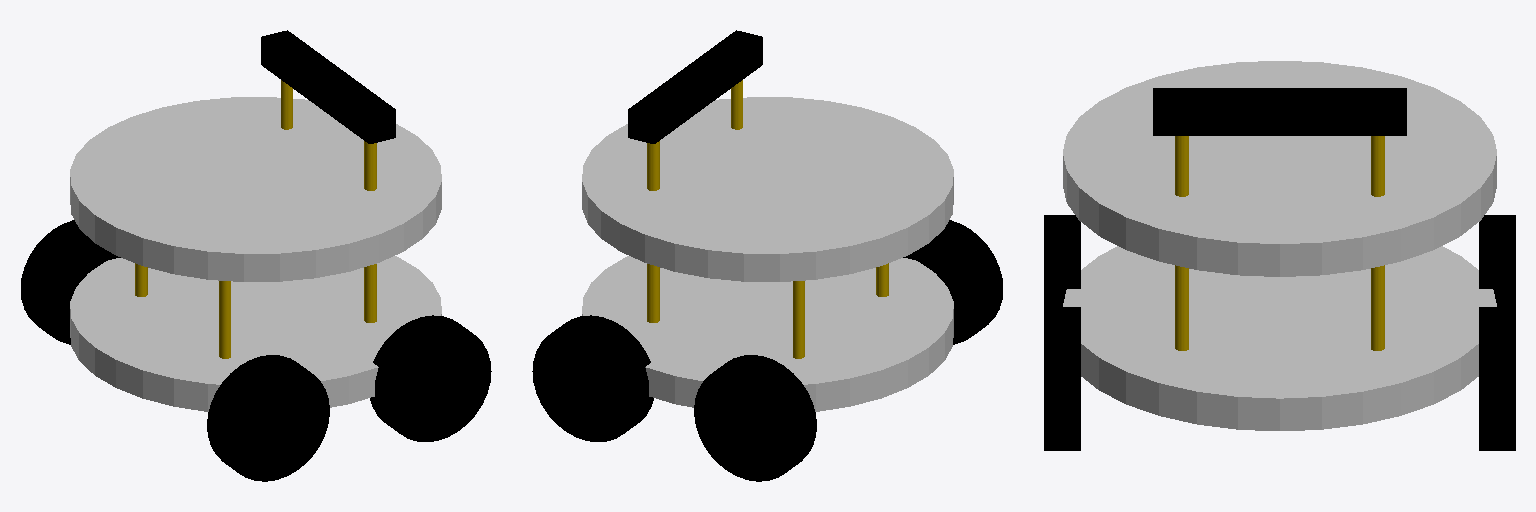
robot.urdf — ultron:
<?xml version='1.0'?>

<robot name="ultron">
  <gazebo reference="chassis_top">
      <material>Gazebo/Blue</material>
  </gazebo>

  <!-- < Materials > -->

  <material name="white">
    <color rgba="0.8 0.8 0.8 1"/>
  </material>

  <material name="gold">
    <color rgba="0.75 0.63 0 1"/>
  </material>

  <material name="black">
    <color rgba="0 0 0 1"/>
  </material>

  <!-- < Chassis Top Parent Link > -->

  <link name='chassis_top'>
    <pose>0 0 0.1 0 0 0</pose>

    <inertial>
      <mass value="1.0"/>
      <origin xyz="0.0 0 0" rpy=" 0 0 0"/>
      <inertia
          ixx="0" ixy="0" ixz="0"
          iyy="0" iyz="0"
          izz="0"
      />
    </inertial>

    <collision name='chassis_collision'>
      <origin xyz="0 0 0.125" rpy=" 0 0 0"/> 
      <geometry>
        <cylinder length="0.025" radius="0.15"/>
      </geometry>
    </collision>

    <visual name='chassis_visual'>
      <origin xyz="0 0 0.125" rpy=" 0 0 0"/>
      <geometry>
       <cylinder length="0.025" radius="0.15"/>
      </geometry>
      <material name="white"/>
    </visual>

  </link>

  <!-- < Chassis Bottom Component > -->

  <link name='chassis_bottom'>
    <pose>0 0 0.1 0 0 0</pose>

    <inertial>
      <mass value="1.0"/>
      <origin xyz="0.0 0 0" rpy=" 0 0 0"/>
      <inertia
          ixx="0" ixy="0" ixz="0"
          iyy="0" iyz="0"
          izz="0"
      />
    </inertial>

    <collision name='chassis_collision'>
      <origin xyz="0 0 0.0" rpy=" 0 0 0"/> 
      <geometry>
        <cylinder length="0.025" radius="0.15"/>
      </geometry>
    </collision>

    <visual name='chassis_visual'>
      <origin xyz="0 0 0.0" rpy=" 0 0 0"/>
      <geometry>
       <cylinder length="0.025" radius="0.15"/>
      </geometry>
      <material name="white"/>
    </visual>

  </link>
  
  <joint name="joint_chassis_top_bottom" type="fixed">
    <origin xyz="0.0 0.0 0.0075" rpy="0.0 0.0 0.0"/>
    <parent link="chassis_top"/>
    <child link="chassis_bottom"/>
  </joint>

  <!-- < Wheels Back Left Component > -->

  <link name="wheels_back_left">
    <pose>0 0 0.1 0 0 0</pose>

    <inertial>
      <mass value="0.5"/>
      <origin xyz="0.0 0 0" rpy=" 0 0 0"/>
      <inertia
          ixx="0" ixy="0" ixz="0"
          iyy="0" iyz="0"
          izz="0"
      />
    </inertial>

    <collision name='left_wheel_collision'>
      <origin xyz="0 0 0" rpy="0 1.57075 1.57075"/>
      <geometry>
        <cylinder length="0.025" radius="0.05"/>
      </geometry>
    </collision>

    <visual name='left_wheel_visual'>
      <origin xyz="0 0 0" rpy="0 1.57075 1.57075"/>
      <geometry>
        <cylinder length="0.025" radius="0.05"/>
      </geometry>
      <material name="black"/>
    </visual>
  </link>

  <joint name="joint_chassis_wheels_back_left" type="continuous">
    <origin xyz="-0.075 0.15 0" rpy=" 0 0 0"/>
    <parent link="chassis_top"/>
    <child link="wheels_back_left"/>
    <axis xyz="0.0 1.0 0.0"/>
    <limit lower="0.0" upper="0.0" effort="50.0" velocity="0.5"/>
  </joint>

  <!-- < Wheels Front Right Component > -->

  <link name="wheels_back_right">
    <pose>0 0 0.1 0 0 0</pose>

    <inertial>
      <mass value="0.5"/>
      <origin xyz="0 0 0" rpy=" 0 0 0"/>
      <inertia
          ixx="0" ixy="0" ixz="0"
          iyy="0" iyz="0"
          izz="0"
      />
    </inertial>

    <collision name='right_wheel_collision'>
      <origin xyz="0 0 0" rpy="0 1.57075 1.57075"/>
      <geometry>
        <cylinder length="0.025" radius="0.05"/>
      </geometry>
    </collision>

    <visual name='right_wheel_visual'>
      <origin xyz="0 0 0" rpy="0 1.57075 1.57075"/>
      <geometry>
        <cylinder length="0.025" radius="0.05"/>
      </geometry>
      <material name="black"/>
    </visual>
  </link>

  <joint name="joint_chassis_wheels_back_right" type="continuous">
    <origin xyz="-0.075 -0.15 0" rpy=" 0 0 0"/>
    <parent link="chassis_top"/>
    <child link="wheels_back_right"/>
    <axis xyz="0.0 1.0 0.0"/>
    <limit lower="0.0" upper="0.0" effort="50.0" velocity="0.5"/>
  </joint>

  <!-- < Wheels Front Left Component > -->

  <link name="wheels_front_left">
    <pose>0 0 0.1 0 0 0</pose>

    <inertial>
      <mass value="0.5"/>
      <origin xyz="0.0 0 0" rpy=" 0 0 0"/>
      <inertia
          ixx="0" ixy="0" ixz="0"
          iyy="0" iyz="0"
          izz="0"
      />
    </inertial>

    <collision name='left_wheel_collision'>
      <origin xyz="0 0 0" rpy="0 1.57075 1.57075"/>
      <geometry>
        <cylinder length="0.025" radius="0.05"/>
      </geometry>
    </collision>

    <visual name='left_wheel_visual'>
      <origin xyz="0 0 0" rpy="0 1.57075 1.57075"/>
      <geometry>
        <cylinder length="0.025" radius="0.05"/>
      </geometry>
      <material name="black"/>
    </visual>
  </link>

  <joint name="joint_chassis_wheels_front_left" type="continuous">
    <origin xyz="0.075 0.15 0" rpy=" 0 0 0"/>
    <parent link="chassis_top"/>
    <child link="wheels_front_left"/>
    <axis xyz="0.0 1.0 0.0"/>
    <limit lower="0.0" upper="0.0" effort="50.0" velocity="0.5"/>
  </joint>
    
  <!-- < Wheels Front Right Component > -->

  <link name="wheels_front_right">
    <pose>0 0 0.1 0 0 0</pose>

    <inertial>
      <mass value="0.5"/>
      <origin xyz="0.0 0 0" rpy=" 0 0 0"/>
      <inertia
          ixx="0" ixy="0" ixz="0"
          iyy="0" iyz="0"
          izz="0"
      />
    </inertial>

    <collision name='right_wheel_collision'>
      <origin xyz="0 0 0" rpy="0 1.57075 1.57075"/>
      <geometry>
        <cylinder length="0.025" radius="0.05"/>
      </geometry>
    </collision>

    <visual name='right_wheel_visual'>
      <origin xyz="0 0 0" rpy="0 1.57075 1.57075"/>
      <geometry>
        <cylinder length="0.025" radius="0.05"/>
      </geometry>
      <material name="black"/>
    </visual>
  </link>

  <joint name="joint_chassis_wheels_front_right" type="continuous">
    <origin xyz="0.075 -0.15 0" rpy=" 0 0 0"/>
    <parent link="chassis_top"/>
    <child link="wheels_front_right"/>
    <axis xyz="0.0 1.0 0.0"/>
    <limit lower="0.0" upper="0.0" effort="50.0" velocity="0.5"/>
  </joint>

  <!-- < Bottom Connector Component > -->

  <link name="connector_bottom_back_right">
  <pose>0 0 0.1 0 0 0</pose>

    <inertial>
      <mass value="1.0"/>
      <origin xyz="0.0 0 0" rpy=" 0 0 0"/>
      <inertia
          ixx="0" ixy="0" ixz="0"
          iyy="0" iyz="0"
          izz="0"
      />
    </inertial>

    <collision name='connector_0_collision'>
      <origin xyz="0 0 0" rpy=" 0 0 0"/>
      <geometry>
        <cylinder length="0.1" radius="0.005"/>
      </geometry>
    </collision>

    <visual name='connector_0_visual'>
      <origin xyz="0 0 0" rpy=" 0 0 0"/>
      <geometry>
        <cylinder length="0.1" radius="0.005"/>
      </geometry>
      <material name="gold"/>
    </visual>
     </link>

  <joint name="joint_chassis_top_bbr_connector" type="fixed">
    <origin xyz="0.0675 0.0675 0.065" rpy="0.0 0.0 0.0"/>
    <parent link="chassis_top"/>
    <child link="connector_bottom_back_right"/>
  </joint> 

  <!-- < Bottom Connector Component > -->

 <link name="connector_bottom_back_left">
  <pose>0 0 0.1 0 0 0</pose>

    <inertial>
      <mass value="1.0"/>
      <origin xyz="0.0 0 0" rpy=" 0 0 0"/>
      <inertia
          ixx="0" ixy="0" ixz="0"
          iyy="0" iyz="0"
          izz="0"
      />
    </inertial>

    <collision name='connector_1_collision'>
      <origin xyz="0 0 0" rpy=" 0 0 0"/>
      <geometry>
        <cylinder length="0.1" radius="0.005"/>
      </geometry>
    </collision>

    <visual name='connector_1_visual'>
      <origin xyz="0 0 0" rpy=" 0 0 0"/>
      <geometry>
        <cylinder length="0.1" radius="0.005"/>
      </geometry>
      <material name="gold"/>
    </visual>
  </link>

  <joint name="joint_chassis_top_bbl_connector" type="fixed">
    <origin xyz="-0.0675 0.0675 0.065" rpy="0.0 0.0 0.0"/>
    <parent link="chassis_top"/>
    <child link="connector_bottom_back_left"/>
   </joint>

<!-- < Bottom Front Left Connector Component > -->

 <link name="connector_bottom_front_right">
  <pose>0 0 0.1 0 0 0</pose>

    <inertial>
      <mass value="1.0"/>
      <origin xyz="0.0 0 0" rpy=" 0 0 0"/>
      <inertia
          ixx="0" ixy="0" ixz="0"
          iyy="0" iyz="0"
          izz="0"
      />
    </inertial>

    <collision name='connector_2_collision'>
      <origin xyz="0 0 0" rpy=" 0 0 0"/>
      <geometry>
        <cylinder length="0.1" radius="0.005"/>
      </geometry>
    </collision>

    <visual name='connector_2_visual'>
      <origin xyz="0 0 0" rpy=" 0 0 0"/>
      <geometry>
        <cylinder length="0.1" radius="0.005"/>
      </geometry>
      <material name="gold"/>
    </visual>
  </link>

  <joint name="joint_chassis_top_bfr_connector" type="fixed">
    <origin xyz="-0.0675 -0.0675 0.065" rpy="0.0 0.0 0.0"/>
    <parent link="chassis_top"/>
    <child link="connector_bottom_front_right"/>
  </joint>

  <!-- < Bottom Front Left Connector Component > -->

 <link name="connector_bottom_front_left">
  <pose>0 0 0.1 0 0 0</pose>

    <inertial>
      <mass value="1.0"/>
      <origin xyz="0.0 0 0" rpy=" 0 0 0"/>
      <inertia
          ixx="0" ixy="0" ixz="0"
          iyy="0" iyz="0"
          izz="0"
      />
    </inertial>

    <collision name='connector_3_collision'>
      <origin xyz="0 0 0" rpy=" 0 0 0"/>
      <geometry>
        <cylinder length="0.1" radius="0.005"/>
      </geometry>
    </collision>

    <visual name='connector_3_visual'>
      <origin xyz="0 0 0" rpy=" 0 0 0"/>
      <geometry>
        <cylinder length="0.1" radius="0.005"/>
      </geometry>
      <material name="gold"/>
    </visual>
  </link>

  <joint name="joint_chassis_top_bfl_connector" type="fixed">
    <origin xyz="0.0675 -0.0675 0.065" rpy="0.0 0.0 0.0"/>
    <parent link="chassis_top"/>
    <child link="connector_bottom_front_left"/>
  </joint>

  <!-- < Top Right Connector Component > -->

  <link name="connector_top_right">
  <pose>0 0 0.1 0 0 0</pose>

    <inertial>
      <mass value="1.0"/>
      <origin xyz="0.0 0 0" rpy=" 0 0 0"/>
      <inertia
          ixx="0" ixy="0" ixz="0"
          iyy="0" iyz="0"
          izz="0"
      />
    </inertial>

    <collision name='connector_0_collision'>
      <origin xyz="0 0 0" rpy=" 0 0 0"/>
      <geometry>
        <cylinder length="0.075" radius="0.005"/>
      </geometry>
    </collision>

    <visual name='connector_0_visual'>
      <origin xyz="0 0 0" rpy=" 0 0 0"/>
      <geometry>
        <cylinder length="0.05" radius="0.005"/>
      </geometry>
      <material name="gold"/>
    </visual>
  </link>

  <joint name="joint_chassis_top_top_right_connector" type="fixed">
    <origin xyz="0.0675 -0.0675 0.1625" rpy="0.0 0.0 0.0"/>
    <parent link="chassis_top"/>
    <child link="connector_top_right"/>
  </joint>

  <!-- < Top Left Connector Component > -->


  <link name="connector_top_left">
  <pose>0 0 0.1 0 0 0</pose>

    <inertial>
      <mass value="1.0"/>
      <origin xyz="0.0 0 0" rpy=" 0 0 0"/>
      <inertia
          ixx="0" ixy="0" ixz="0"
          iyy="0" iyz="0"
          izz="0"
      />
    </inertial>

    <collision name='connector_1_collision'>
      <origin xyz="0 0 0" rpy=" 0 0 0"/>
      <geometry>
        <cylinder length="0.05" radius="0.005"/>
      </geometry>
    </collision>

    <visual name='connector_1_visual'>
      <origin xyz="0 0 0" rpy=" 0 0 0"/>
      <geometry>
        <cylinder length="0.05" radius="0.005"/>
      </geometry>
      <material name="gold"/>
    </visual>
  </link>

  <joint name="joint_chassis_top_top_left_connector" type="fixed">
    <origin xyz="0.0675 0.0675 0.1625" rpy="0.0 0.0 0.0"/>
    <parent link="chassis_top"/>
    <child link="connector_top_left"/>
  </joint>

   <!-- < Head Component > -->

  <joint name="joint_chassis_top_head" type="fixed">
    <origin xyz="0 0 0" rpy="0.0 0.0 0.0"/>
    <parent link="chassis_top"/>
    <child link="head"/>
  </joint>

  <link name="head">
  <pose>0 0 0.1 0 0 0</pose>

    <inertial>
      <mass value="0.5"/>
      <origin xyz="0.0 0 0" rpy=" 0 0 0"/>
      <!-- <inertia
          ixx="0.0026" ixy="0" ixz="0"
          iyy="0.00005" iyz="0"
          izz="0.00005"
      />
    </inertial> -->
    <inertia
          ixx="0" ixy="0" ixz="0"
          iyy="0" iyz="0"
          izz="0"
      />
    </inertial>

    <collision name='head'>
      <origin xyz="0.0675 0 0.2" rpy=" 0 0.0 0"/>
      <geometry>
          <box size="0.025 0.175 0.025"/>
      </geometry>
    </collision>

    <visual name='head'>
      <origin xyz="0.0675 0 0.2" rpy=" 0 0 0"/>
      <geometry>
          <box size="0.025 0.175 0.025"/>
      </geometry>
      <material name="black"/>
    </visual>
  </link>
<!-- </robot> -->
  <!-- <gazebo>
     <plugin name="skid_steer_drive_controller" filename="libgazebo_ros_skid_steer_drive.so">
     <updateRate>100.0</updateRate>
     <robotNamespace>/</robotNamespace>
     <leftFrontJoint>joint_chassis_wheels_front_left</leftFrontJoint>
     <rightFrontJoint>joint_chassis_wheels_front_right</rightFrontJoint>
     <leftRearJoint>joint_chassis_wheels_back_left</leftRearJoint>
     <rightRearJoint>joint_chassis_wheels_back_right</rightRearJoint>
     <wheelSeparation>0.03</wheelSeparation>
     <wheelDiameter>0.1</wheelDiameter>
     <robotBaseFrame>chassis_top</robotBaseFrame>
     <torque>20</torque>
     <topicName>cmd_vel</topicName>
     <broadcastTF>false</broadcastTF>
   </plugin>
  </gazebo> -->
  <gazebo>
    <plugin name="object_controller" filename="libgazebo_ros_planar_move.so">
      <commandTopic>cmd_vel</commandTopic>
      <odometryTopic>odom</odometryTopic>
      <odometryFrame>odom</odometryFrame>
      <odometryRate>20.0</odometryRate>
      <robotBaseFrame>chassis_top</robotBaseFrame>
      <publishTF>false</publishTF>
    </plugin>
  </gazebo>

</robot>

--- Facts derived from the render (not from the file) ---
3 views of the same robot in one strip: view 1: azimuth 30°, elevation 25°; view 2: azimuth 150°, elevation 25°; view 3: azimuth 270°, elevation 25° (orthographic).
Model ultron with 13 links and 12 joints (4 continuous, 8 fixed), rooted at chassis_top, posed every joint at zero.
Links seen in each view (by area): view 1: chassis_top, chassis_bottom, wheels_back_right, wheels_front_right, head, wheels_back_left, connector_bottom_front_right, connector_bottom_front_left, connector_top_right, connector_top_left; view 2: chassis_top, chassis_bottom, wheels_back_left, wheels_front_left, head, wheels_back_right, connector_bottom_back_left, connector_bottom_back_right, connector_top_left, connector_top_right; view 3: chassis_top, chassis_bottom, head, wheels_front_left, wheels_front_right, wheels_back_left, wheels_back_right, connector_bottom_back_right, connector_bottom_front_left, connector_top_right, connector_top_left.
Boxes of the visible links, <box> form: chassis_top: <box>70,97,441,281</box>; chassis_bottom: <box>70,256,441,411</box>; wheels_back_right: <box>207,355,329,481</box>; wheels_front_right: <box>370,315,491,441</box>; head: <box>261,30,395,143</box>; wheels_back_left: <box>21,220,120,344</box>; connector_bottom_front_right: <box>219,281,230,358</box>; connector_bottom_front_left: <box>364,264,376,322</box>; connector_top_right: <box>364,141,376,190</box>; connector_top_left: <box>281,80,292,129</box>; chassis_top: <box>582,97,953,281</box>; chassis_bottom: <box>582,256,953,411</box>; wheels_back_left: <box>694,355,816,481</box>; wheels_front_left: <box>532,315,653,441</box>; head: <box>628,30,762,143</box>; wheels_back_right: <box>903,220,1002,344</box>; connector_bottom_back_left: <box>793,281,804,358</box>; connector_bottom_back_right: <box>647,264,659,322</box>; connector_top_left: <box>647,141,659,190</box>; connector_top_right: <box>731,80,742,129</box>; chassis_top: <box>1063,61,1496,276</box>; chassis_bottom: <box>1063,246,1496,430</box>; head: <box>1153,88,1406,135</box>; wheels_front_left: <box>1479,307,1515,450</box>; wheels_front_right: <box>1044,307,1080,450</box>; wheels_back_left: <box>1479,215,1515,306</box>; wheels_back_right: <box>1044,215,1080,306</box>; connector_bottom_back_right: <box>1371,265,1384,350</box>; connector_bottom_front_left: <box>1175,265,1188,350</box>; connector_top_right: <box>1175,136,1188,196</box>; connector_top_left: <box>1371,136,1384,196</box>.
Size in the robot's own frame: 0.3 by 0.325 by 0.2625 metres.
Geometry: primitives only (box / cylinder / sphere), no mesh files.